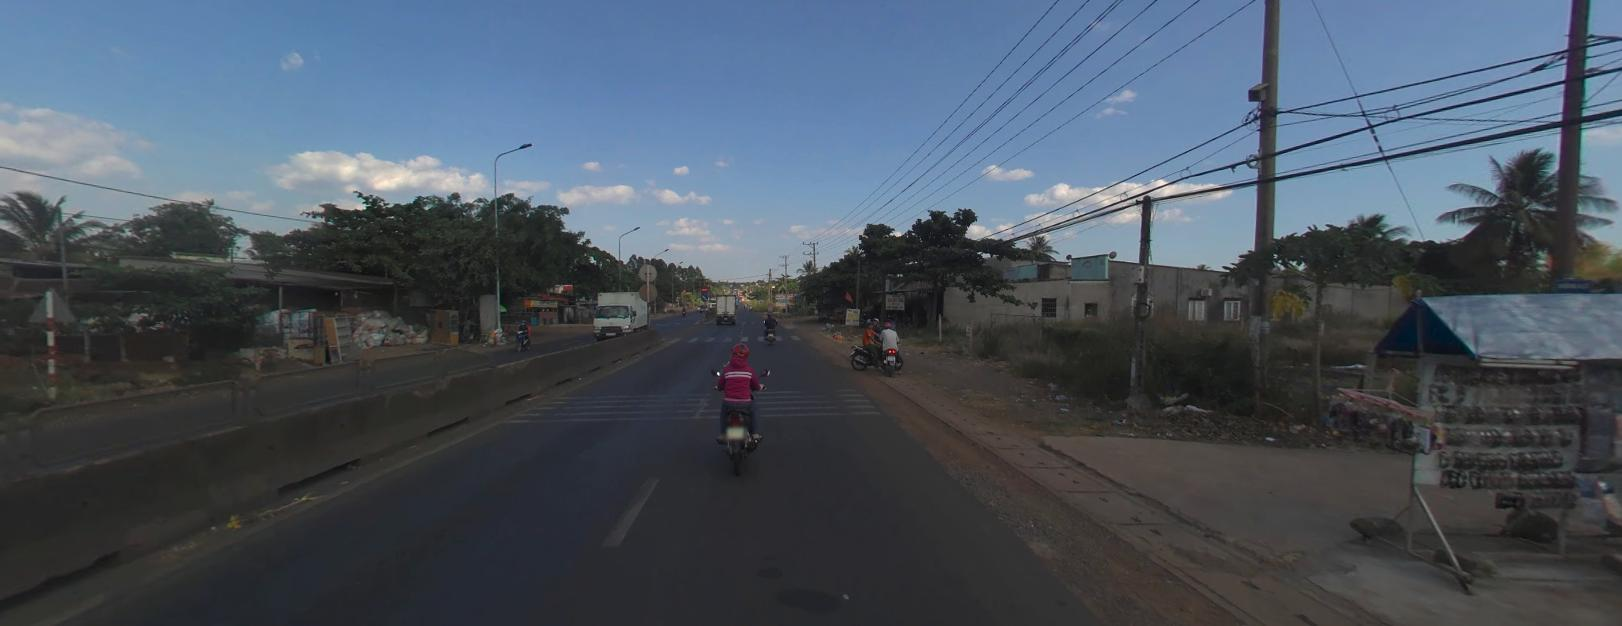Cam nguoc chieu: (700, 284, 708, 291), (701, 284, 708, 291)
Hieu lenh: (700, 292, 708, 299), (700, 292, 707, 299)
